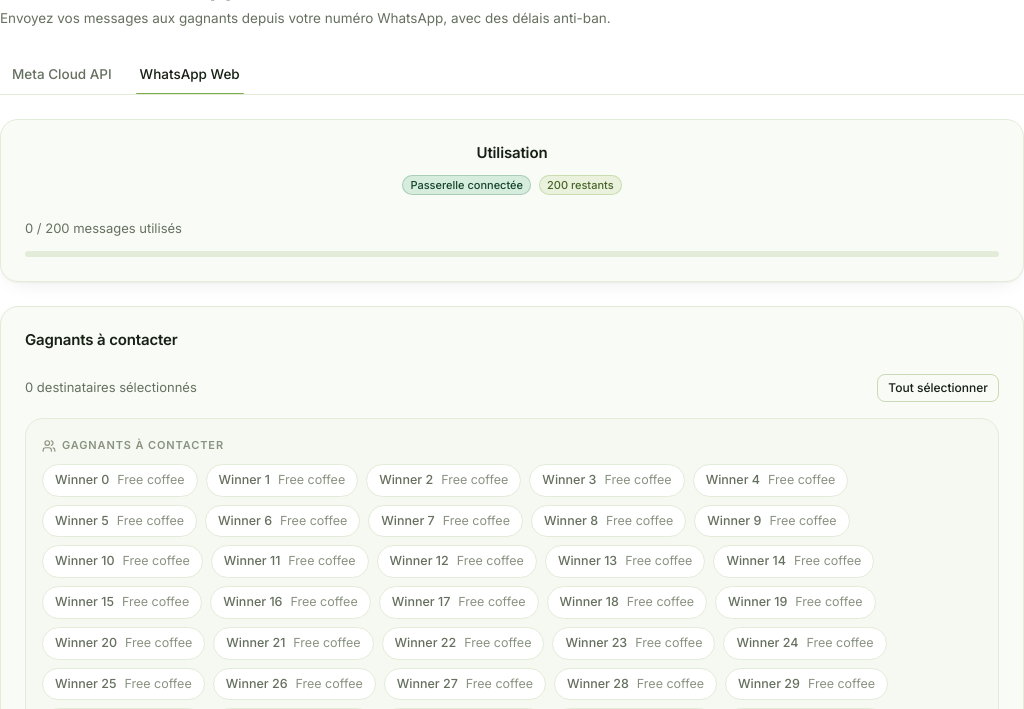
Scenario: WhatsApp Web broadcast panel › caps select-all at the per-broadcast batch limit with a random-pick notice
The width and height of the screenshot is (1024, 709).
Click the button "Tout sélectionner".
click(938, 388)  # box [877,374,999,402]
(page scrolled)
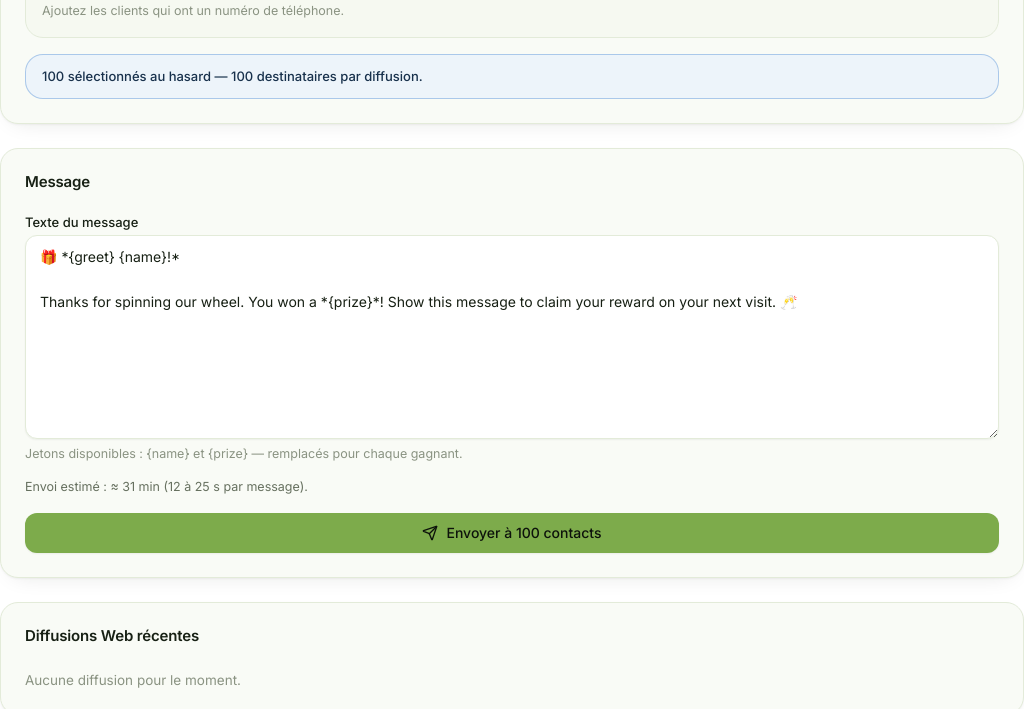
Check: the text "100 sélectionnés au hasard — 100 destinataires par diffusion." is shown, box [25,54,999,99]
Check: the button "Envoyer à 100 contacts" is enabled, box [25,513,999,553]
